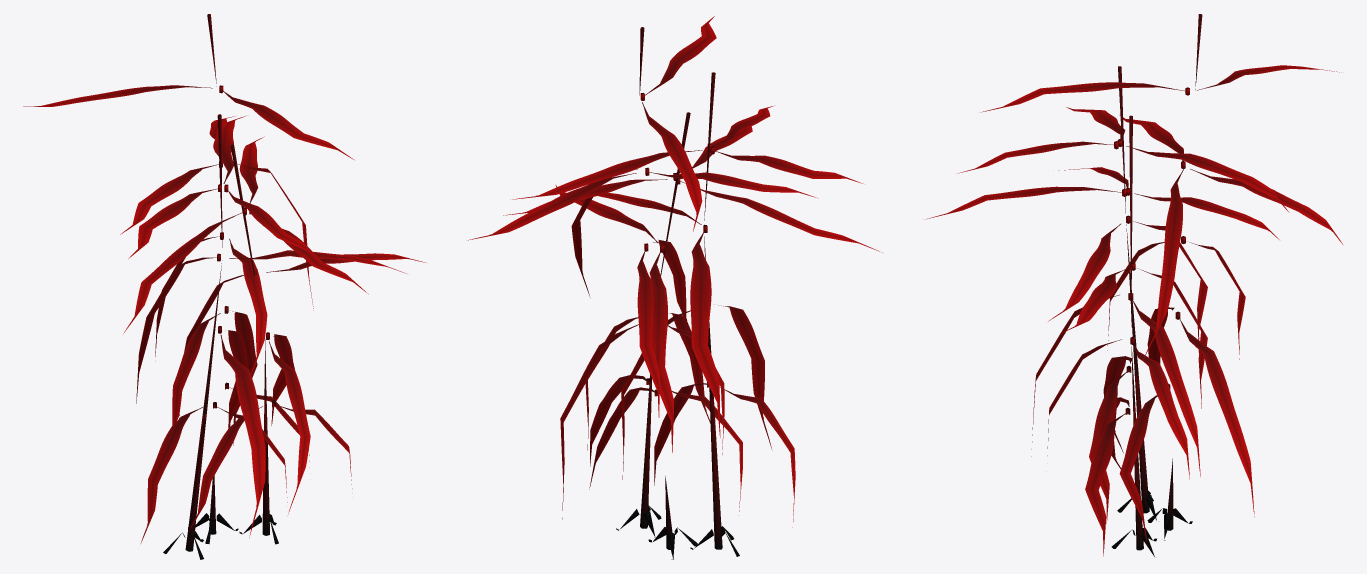
The model's file is plant_shallows_kelp_clump_a_lod2.glb.
3 views of the same model, side by side, from view 1: azimuth 30°, elevation 25°; view 2: azimuth 150°, elevation 25°; view 3: azimuth 270°, elevation 25° (orthographic). The views are drawn at different scales.
Parts seen in each view (by area): view 1: plant_shallows_kelp_clump_a; view 2: plant_shallows_kelp_clump_a; view 3: plant_shallows_kelp_clump_a.
Part boxes in pixels (<box>): plant_shallows_kelp_clump_a: <box>23,14,425,559</box>; plant_shallows_kelp_clump_a: <box>468,16,882,559</box>; plant_shallows_kelp_clump_a: <box>926,14,1342,556</box>.
Size of the model in its own units: 1.3 by 1.95 by 1.48.
Materials: 1 (1 with a texture image).
